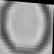no answer: (0, 0, 52, 54)
